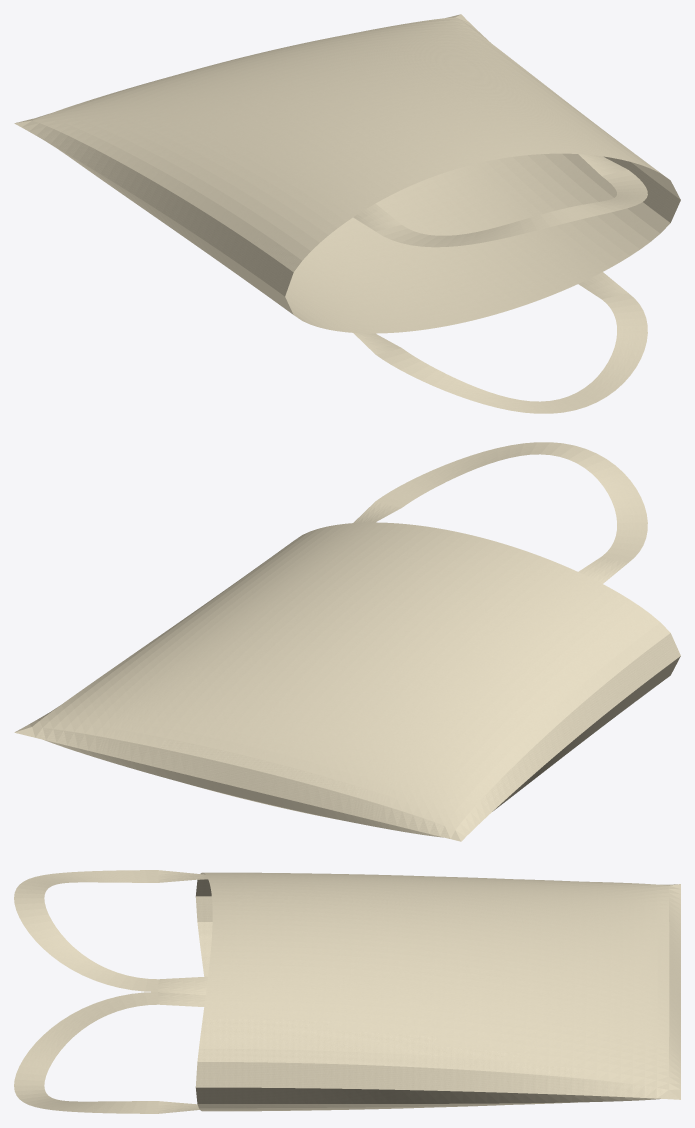
The model's file is two_panel_bag_tall.obj.
3 views of the same model, one above another, from view 1: azimuth 30°, elevation 25°; view 2: azimuth 150°, elevation 25°; view 3: azimuth 270°, elevation 25° (orthographic).
Size of the model in its own units: 0.42 by 0.17 by 0.5485.
1 material, 1 textured.
